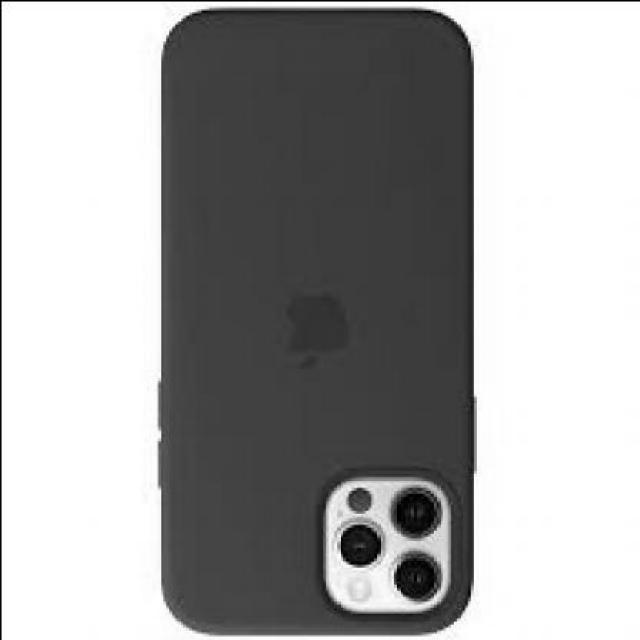fake: (159, 8, 470, 632)
